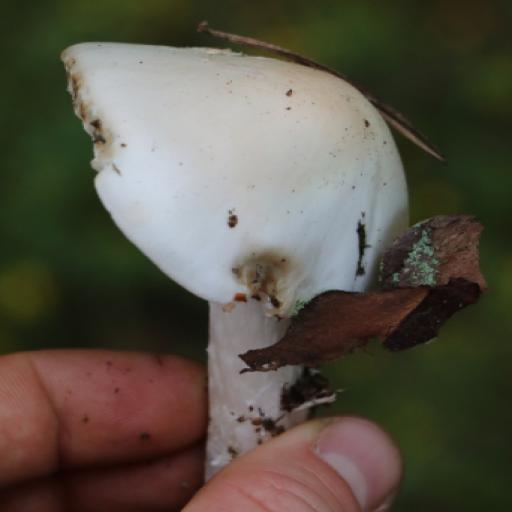mushroom: (46, 0, 482, 479)
